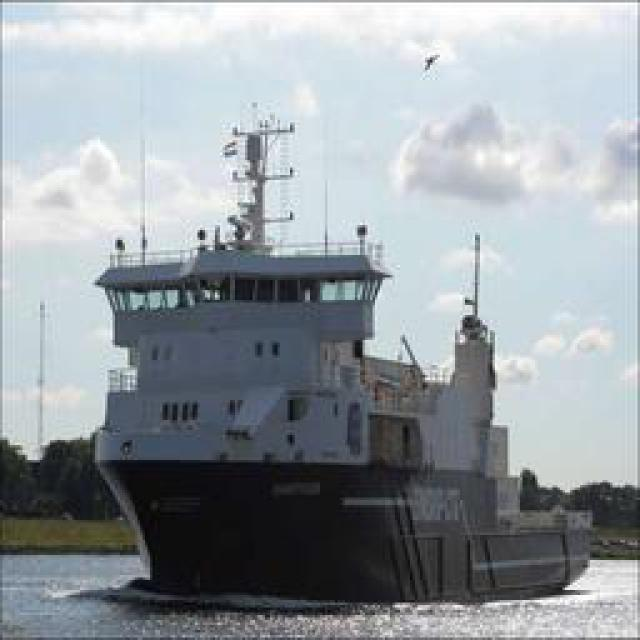Ship: (75, 83, 605, 609)
